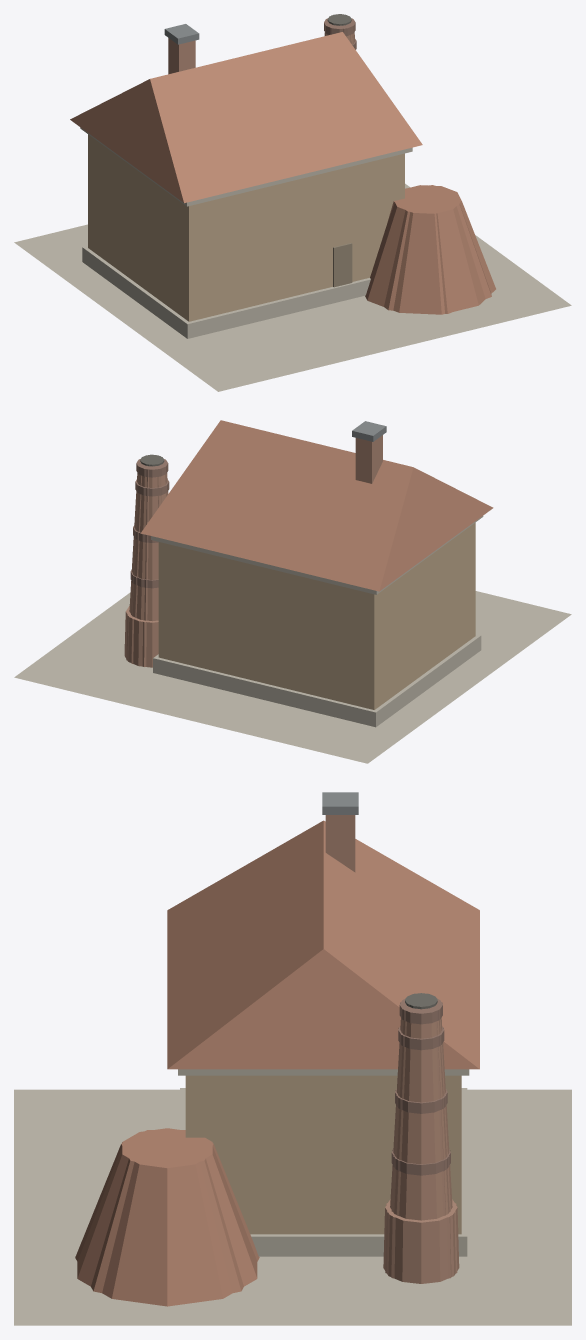
3 views of the same model, one above another, from view 1: azimuth 30°, elevation 25°; view 2: azimuth 150°, elevation 25°; view 3: azimuth 270°, elevation 25° (orthographic). The views are drawn at different scales.
Visible parts, largest first — view 1: Near, Mid; view 2: Near, Mid; view 3: Near, Mid, Far.
Boxes of the visible parts, x1,y1,x2,y2 form: Near: [14, 14, 571, 391]; Mid: [324, 14, 491, 313]; Near: [14, 420, 571, 763]; Mid: [126, 454, 168, 666]; Near: [14, 792, 571, 1325]; Mid: [75, 993, 456, 1292]; Far: [123, 1019, 457, 1273].
Bounding box in the file's own units: 2 × 1.37 × 2.
